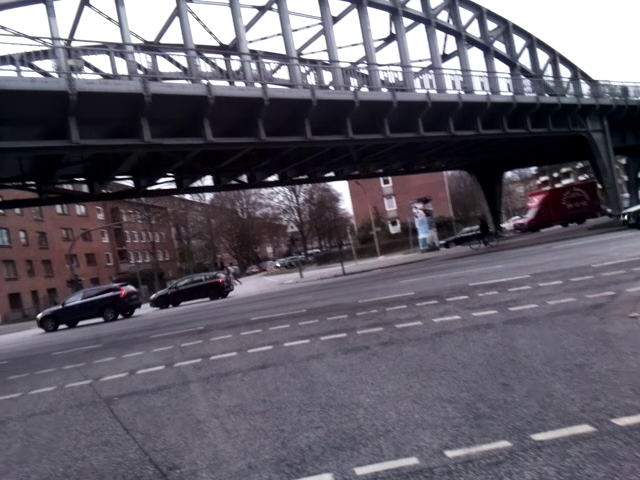car: (27, 283, 146, 325), (147, 270, 240, 306)
